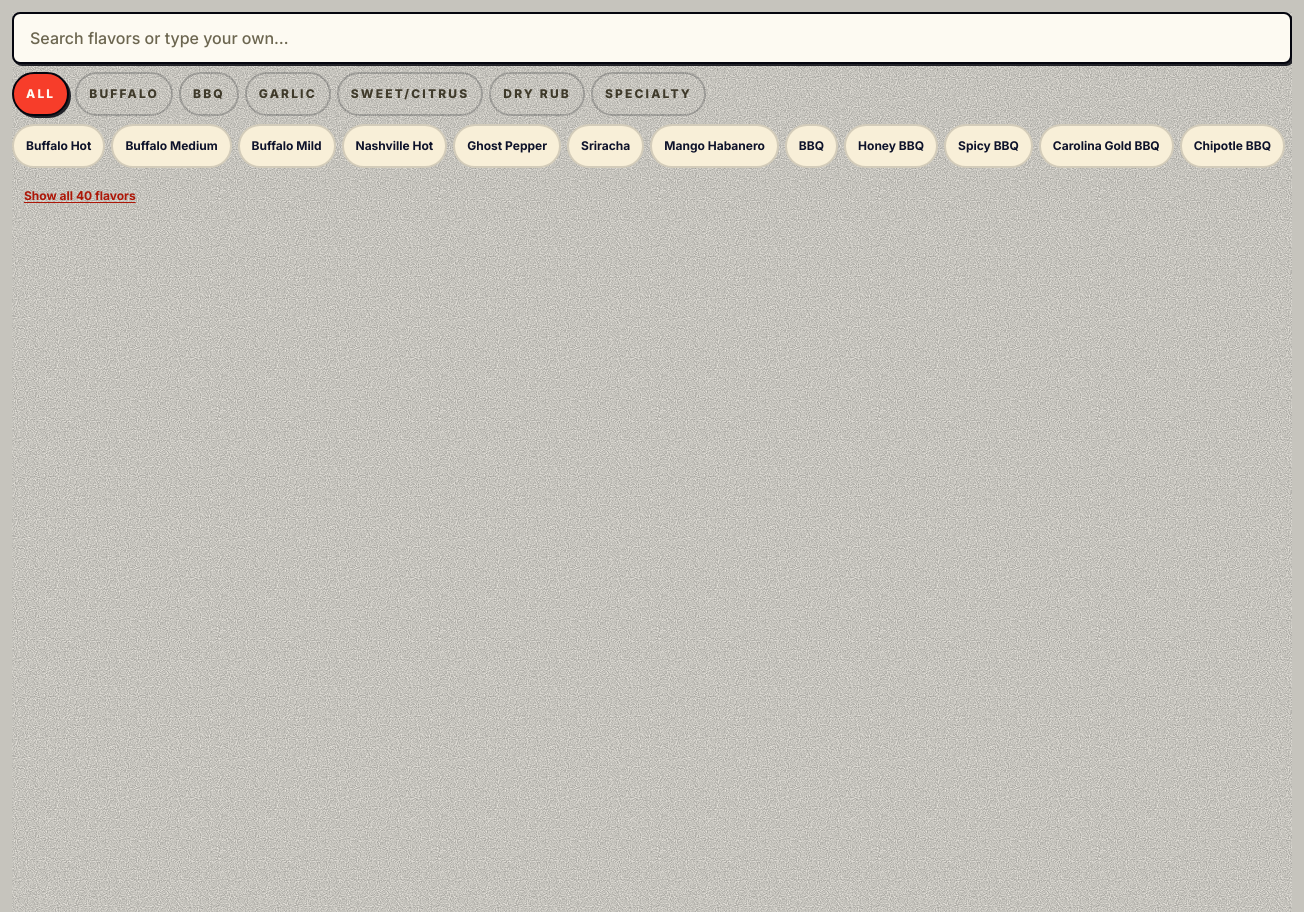
Scenario: WingFlavorPicker › search still finds flavors outside the short list
Type "naked" into the field labelled "Search flavors" at coordinates (652, 38), box 12,12 -> 1292,64
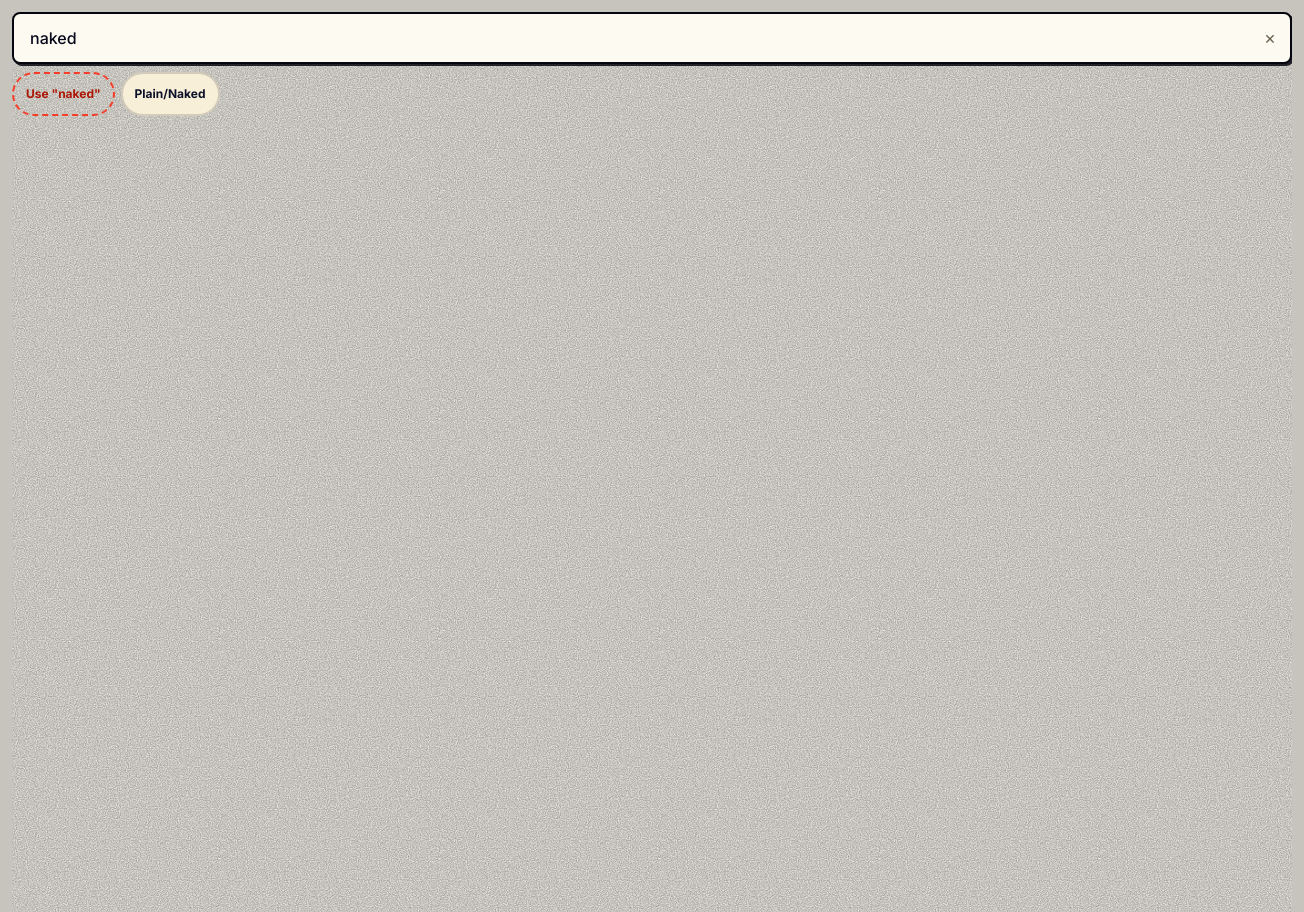
Check: the button "Plain/Naked" is shown, box 121,72 -> 220,116
